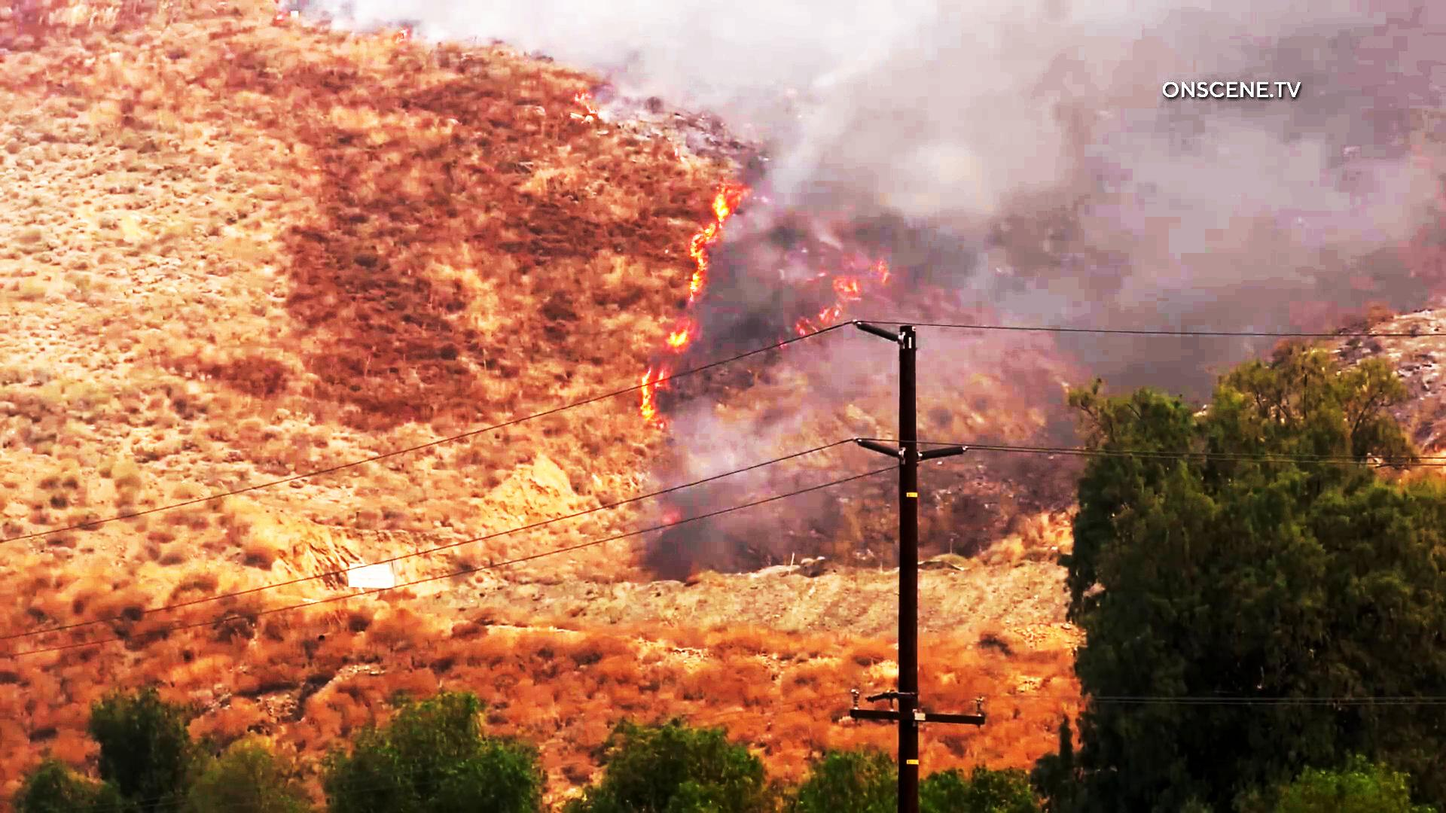fire: (626, 168, 772, 431)
smoke: (880, 57, 1096, 297)
